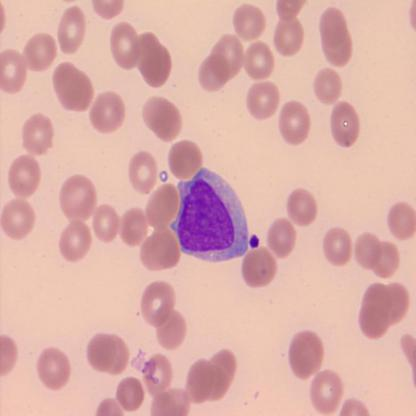Myelocyte: (171, 170, 249, 260)
